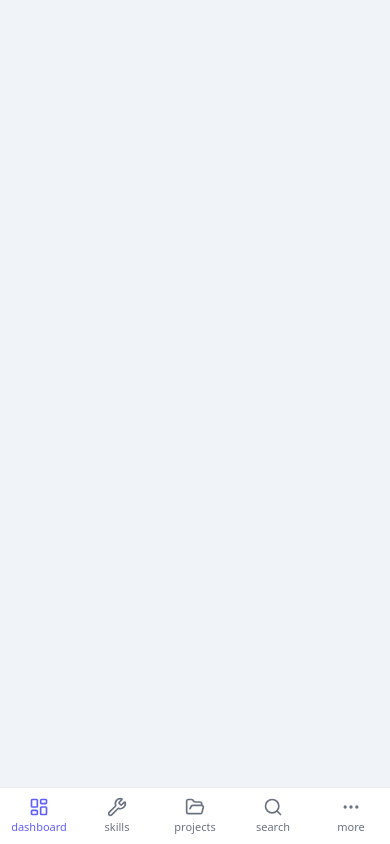
Test case: MobileTabBar › oeffnet und schliesst das Mehr-Menue
Click the button "more" at (351, 816), box [312,788,389,843]
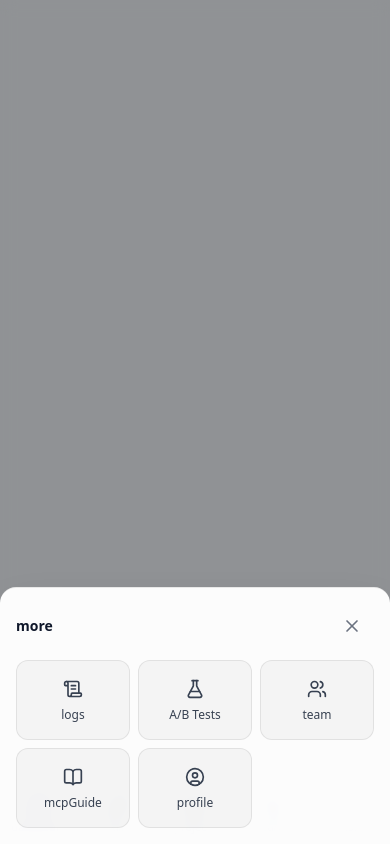
Check: the dialog is shown
Check: the text "team" is shown, box [302,706,332,722]
Click the button named "close" at (352, 626), box [330,604,374,648]
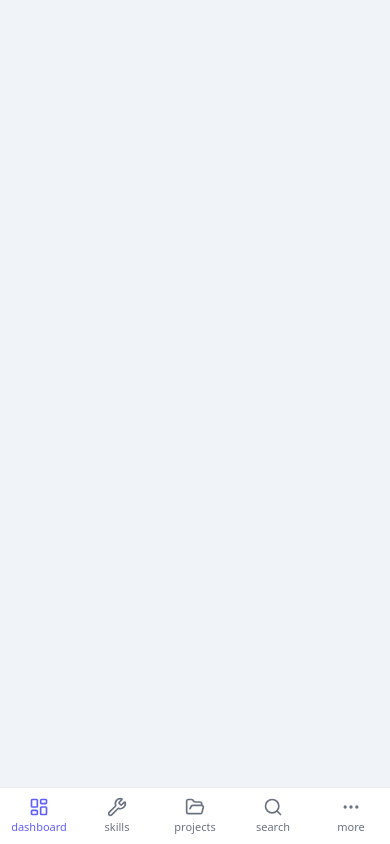
Check: the dialog is gone
